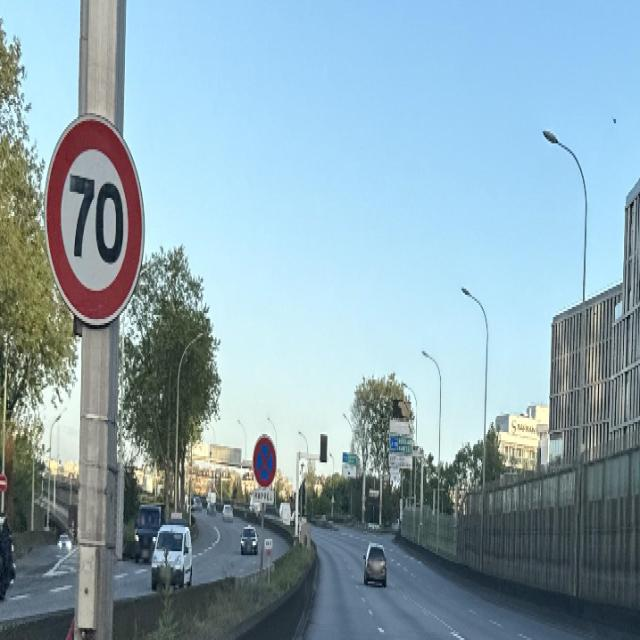speed_70: (43, 117, 144, 329)
